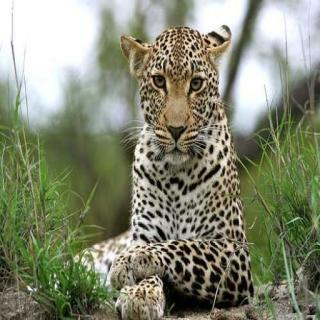Leopard: (87, 18, 292, 320)
